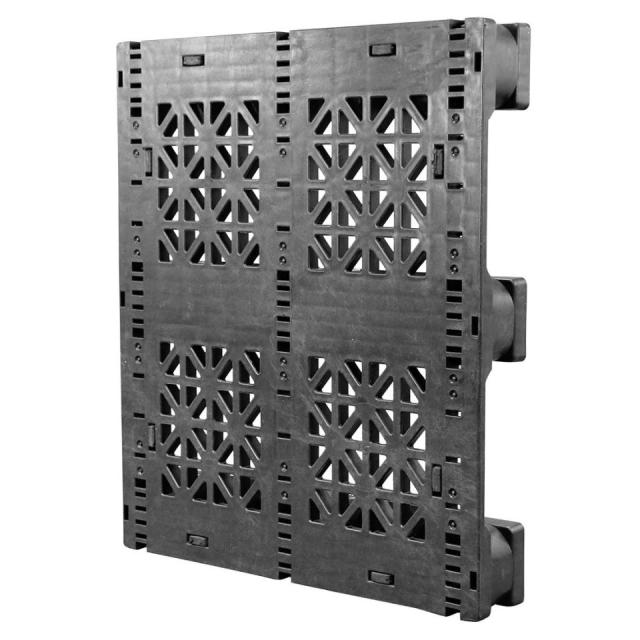non-igps: (106, 6, 540, 629)
